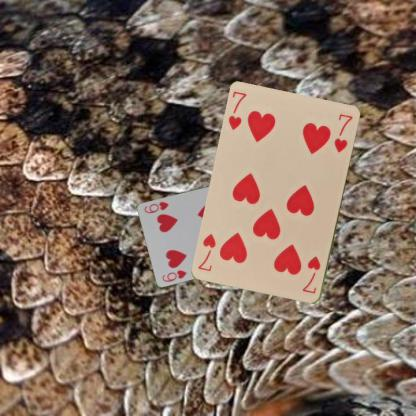6h: (159, 267, 188, 283)
7h: (226, 89, 248, 132), (299, 254, 322, 295)
